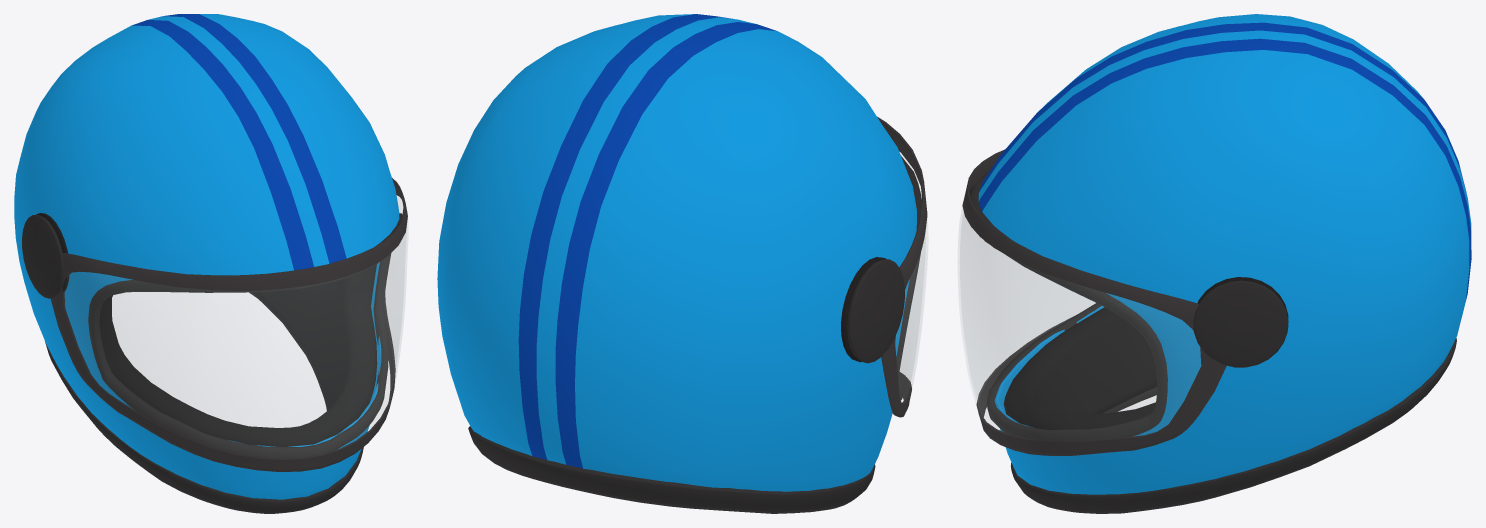
The model's file is Helmet3.glb.
3 renders of one model, left to right at view 1: azimuth 30°, elevation 25°; view 2: azimuth 150°, elevation 25°; view 3: azimuth 270°, elevation 25°, orthographic. The views are drawn at different scales.
Visible parts, largest first — view 1: Base, Class; view 2: Base, Class; view 3: Base, Class.
Boxes of the visible parts, x1,y1,x2,y2 form: Base: (14, 14, 402, 513); Class: (50, 178, 407, 471); Base: (437, 14, 921, 513); Class: (877, 116, 927, 417); Base: (969, 14, 1471, 513); Class: (958, 149, 1226, 455).
Bounding box in the file's own units: 0.6296 × 0.7243 × 0.7529.
2 materials, 1 textured.
